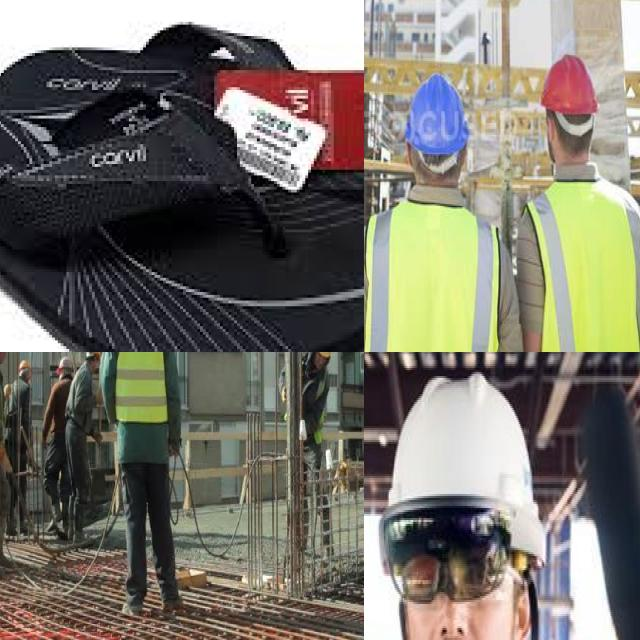No_Ear-Protection: (545, 113, 556, 143)
Sandals: (0, 10, 364, 352)
face_nomask: (400, 552, 522, 640)
glasses: (380, 500, 522, 606)
head_helmet: (386, 374, 536, 524), (402, 71, 468, 157), (536, 49, 600, 116), (20, 357, 34, 372), (317, 352, 337, 360)
person: (364, 370, 635, 640), (521, 43, 640, 352), (393, 75, 486, 352), (118, 352, 189, 614), (289, 352, 343, 461), (71, 352, 102, 506), (44, 352, 71, 522), (0, 352, 12, 568), (13, 357, 33, 459)
vest: (368, 204, 496, 352), (529, 189, 640, 352), (118, 352, 169, 425)
